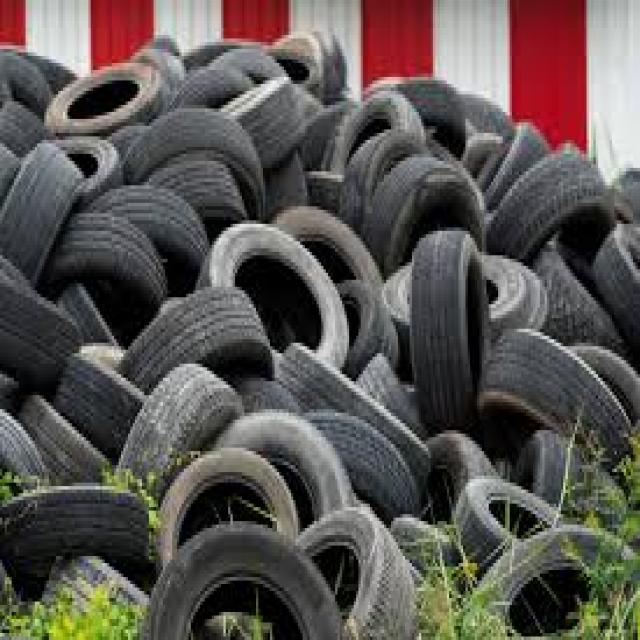Rubber -Non-Biodegradable but Recyclable-: (0, 26, 640, 640)
